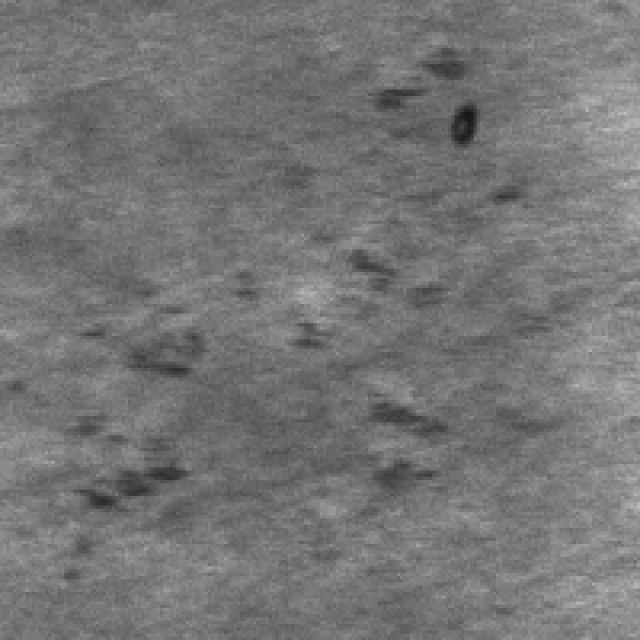rolled-in_scale: (262, 218, 496, 524), (41, 224, 218, 557)
